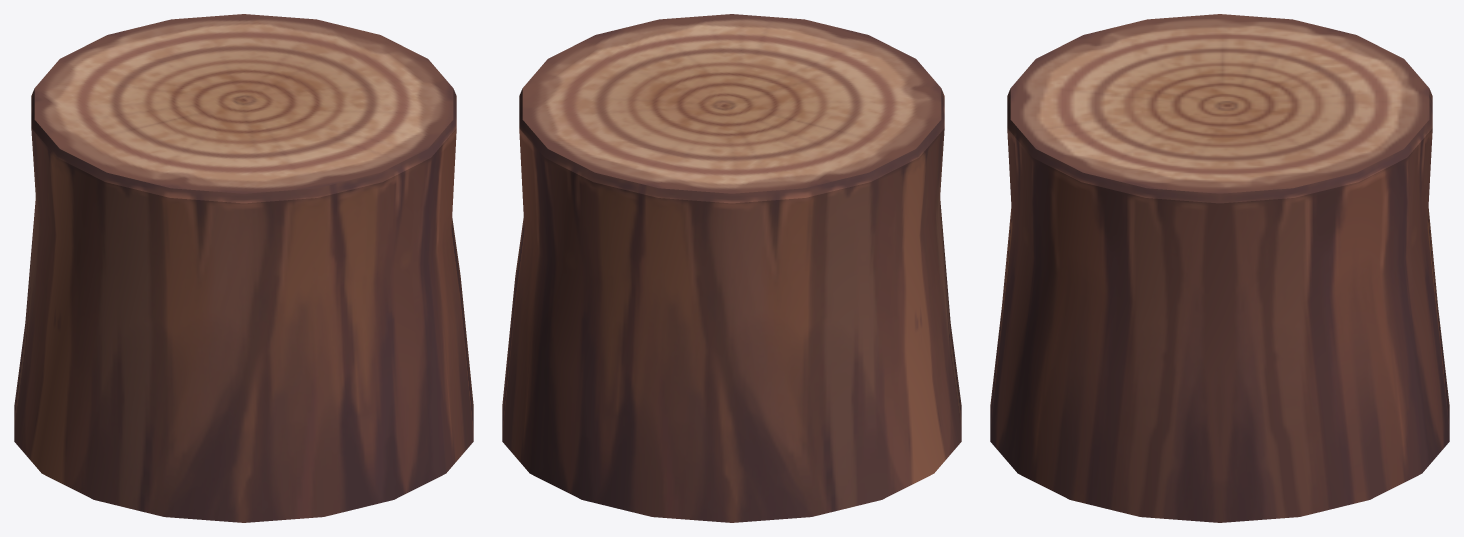
File: Stump_01.fbx
3 renders of one model, left to right at view 1: azimuth 30°, elevation 25°; view 2: azimuth 150°, elevation 25°; view 3: azimuth 270°, elevation 25°, orthographic.
Parts seen in each view (by area): view 1: Cylinder004; view 2: Cylinder004; view 3: Cylinder004.
Part boxes in pixels (x1,y1,x2,y2): Cylinder004: [14, 14, 473, 522]; Cylinder004: [502, 14, 961, 522]; Cylinder004: [990, 14, 1449, 522].
Bounding box in the file's own units: 75.39 × 57.12 × 74.24.
